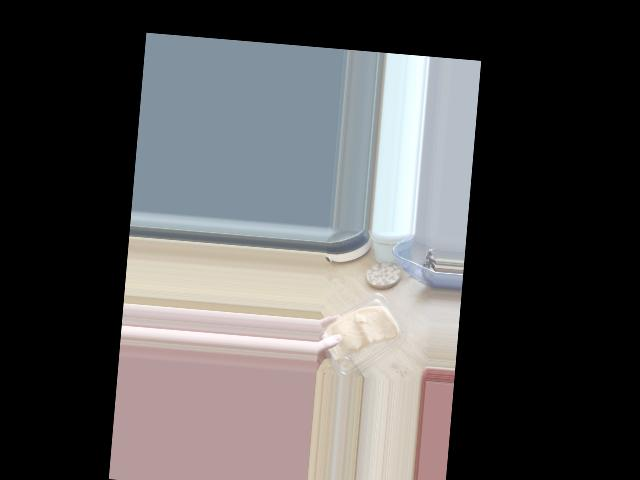cheese: (322, 281, 419, 379)
